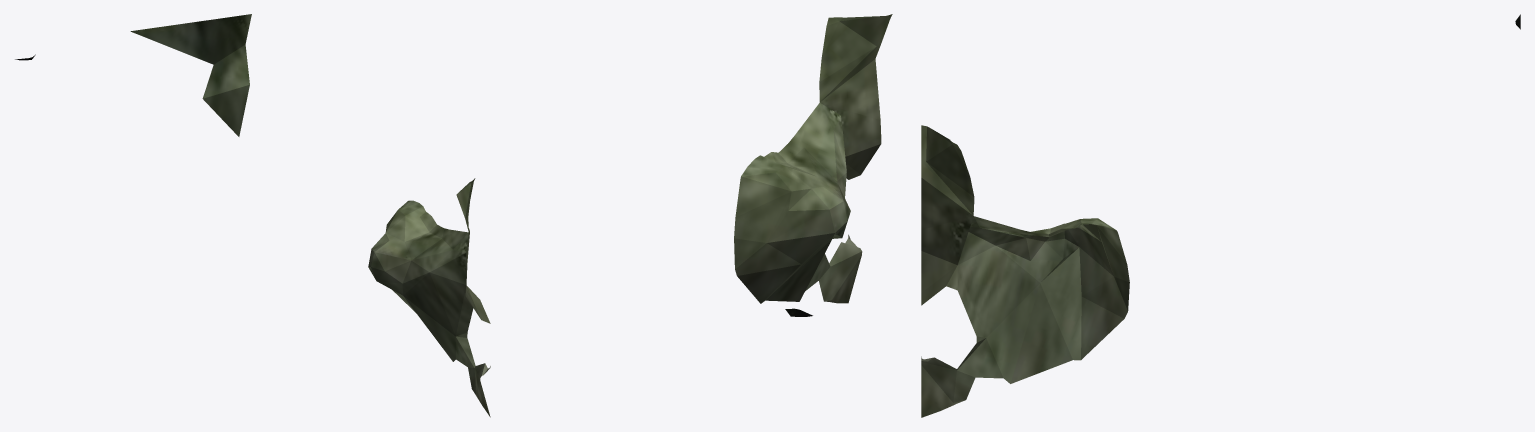
The picture shows the model from 3 angles, left to right: view 1: azimuth 30°, elevation 25°; view 2: azimuth 150°, elevation 25°; view 3: azimuth 270°, elevation 25°; orthographic projection. The views are drawn at different scales.
Size of the model in its own units: 1.52 by 1.48 by 2.95.
Materials: 1 (1 with a texture image).
